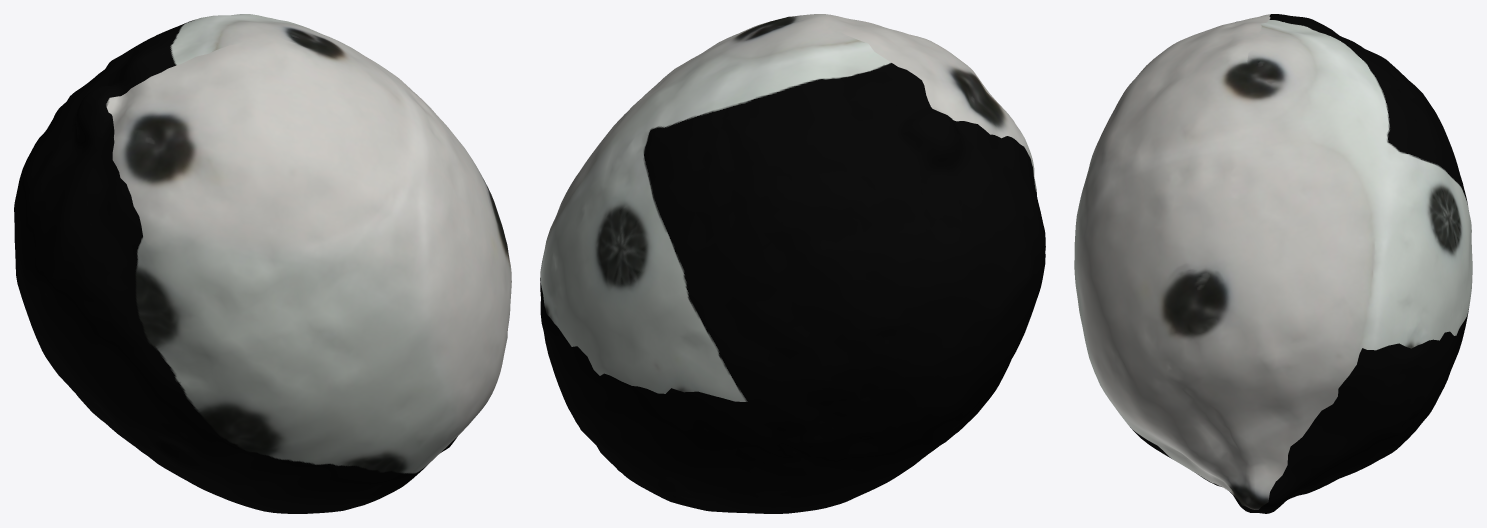
3 renders of one model, left to right at view 1: azimuth 30°, elevation 25°; view 2: azimuth 150°, elevation 25°; view 3: azimuth 270°, elevation 25°, orthographic. The views are drawn at different scales.
Visible parts, largest first — view 1: textured.013; view 2: textured.013; view 3: textured.013.
Boxes of the visible parts, x1,y1,x2,y2 form: textured.013: [14, 14, 511, 513]; textured.013: [540, 14, 1045, 513]; textured.013: [1074, 14, 1472, 513].
Bounding box in the file's own units: 0.0593 × 0.0606 × 0.053.
